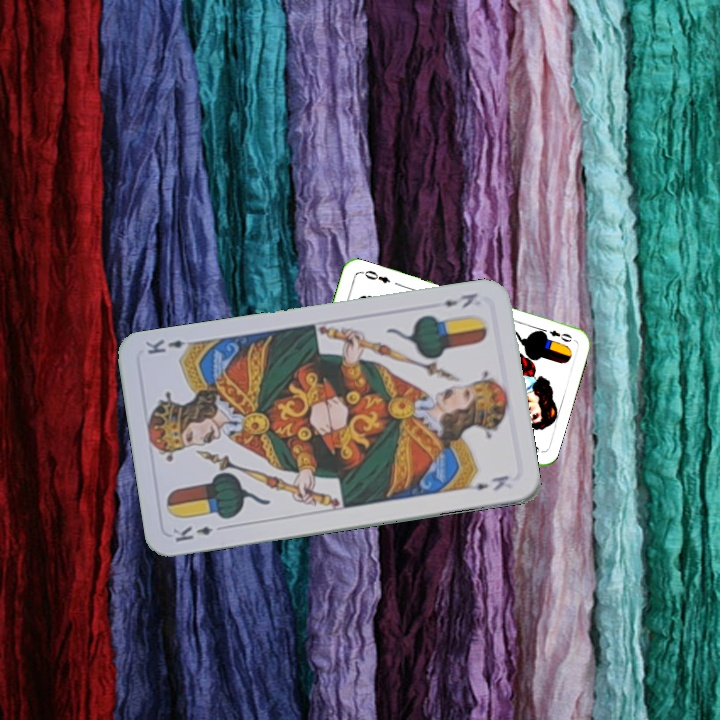EK: (168, 521, 228, 545), (427, 289, 480, 311)
EO: (536, 324, 575, 345)
